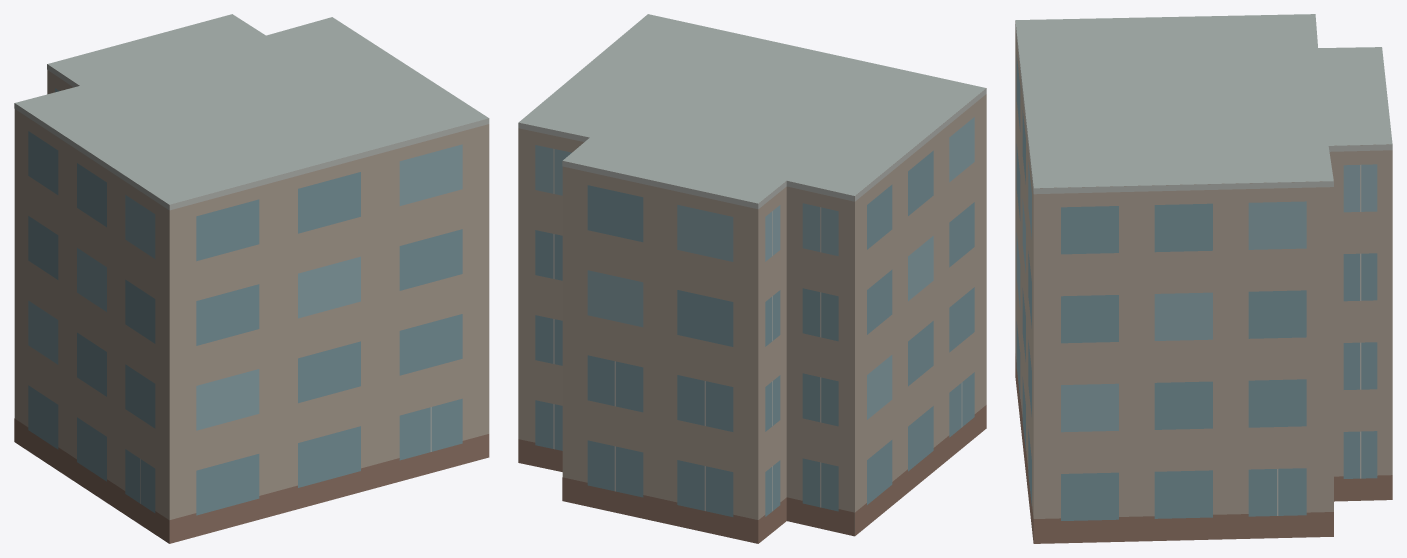
The model's file is survey-upis-32494888.glb.
The picture shows the model from 3 angles, left to right: view 1: azimuth 30°, elevation 25°; view 2: azimuth 150°, elevation 25°; view 3: azimuth 270°, elevation 25°; orthographic projection. The views are drawn at different scales.
Parts seen in each view (by area): view 1: survey-upis-32494888.tmp; view 2: survey-upis-32494888.tmp; view 3: survey-upis-32494888.tmp.
Boxes of the visible parts, box(x1,y1,x2,y2) form: survey-upis-32494888.tmp: box(14, 14, 489, 543); survey-upis-32494888.tmp: box(518, 14, 986, 543); survey-upis-32494888.tmp: box(1015, 14, 1392, 543).
Size of the model in its own units: 15.35 by 14.6 by 14.05.
